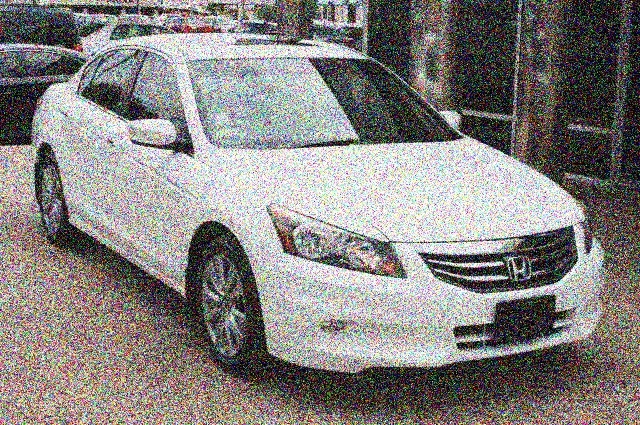car: (19, 29, 621, 402)
